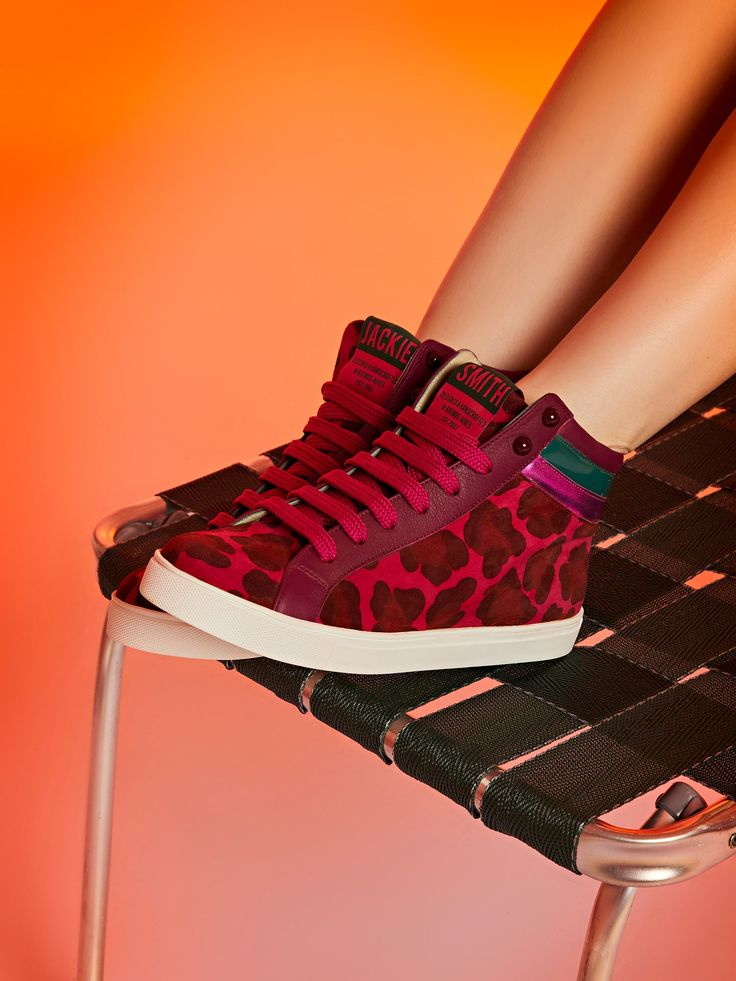gamuza: (113, 318, 623, 633)
